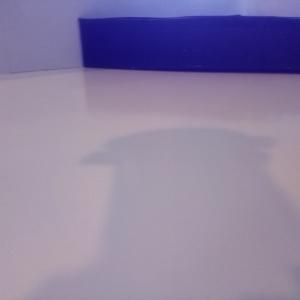zone: (78, 15, 300, 72)
